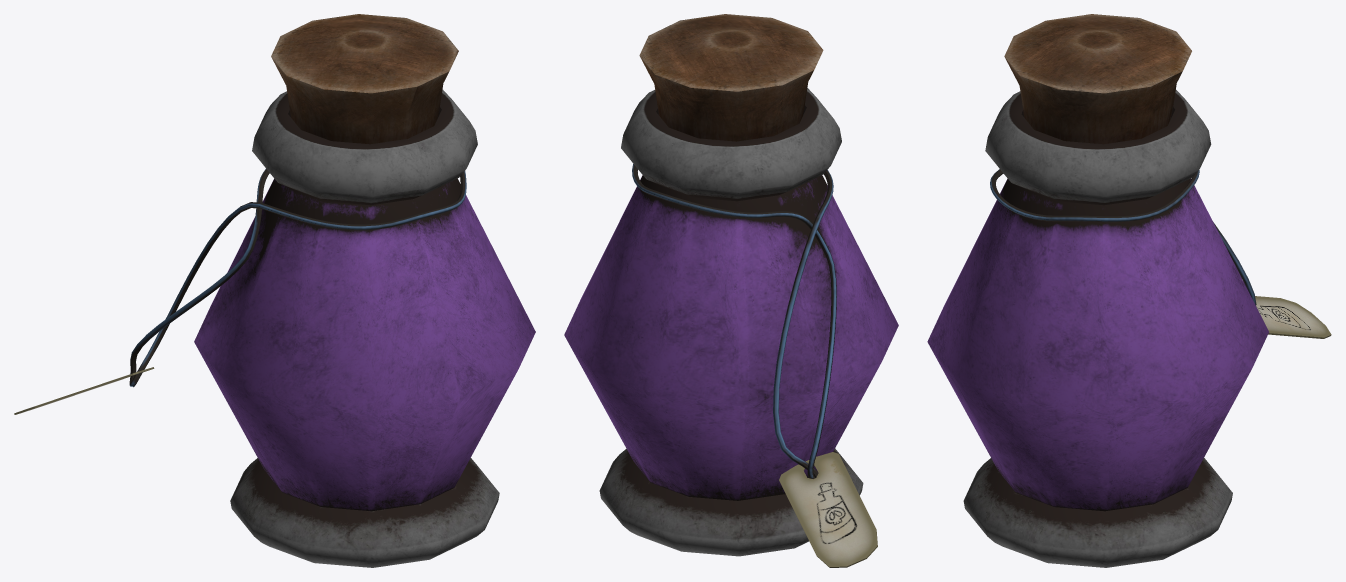
3 views of the same model, side by side, from view 1: azimuth 30°, elevation 25°; view 2: azimuth 150°, elevation 25°; view 3: azimuth 270°, elevation 25° (orthographic). The views are drawn at different scales.
Visible parts, largest first — view 1: flask_0, rope_1; view 2: flask_0, label_2, rope_1; view 3: flask_0, label_2, rope_1.
Boxes of the visible parts, x1,y1,x2,y2 form: flask_0: (194,14,535,567); rope_1: (129,168,466,387); flask_0: (564,14,898,556); label_2: (779,452,877,567); rope_1: (632,164,836,478); flask_0: (927,14,1268,567); label_2: (1255,296,1331,338); rope_1: (990,169,1256,305).
Bounding box in the file's own units: 2.28 × 2.63 × 2.01.
1 material, 1 textured.
